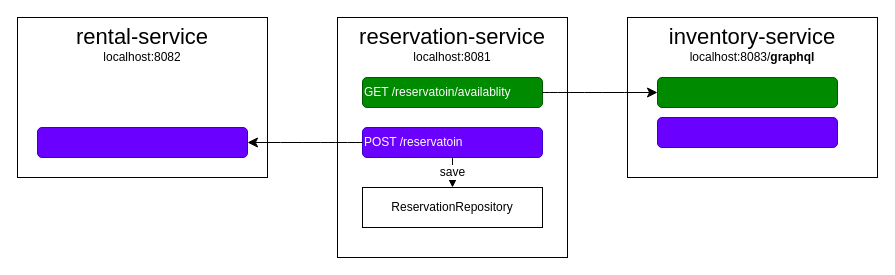
The diagram is 895 pixels wide and 275 high, and some of its shapes have lost their labels. Each missing label, with the box of its shape:
mutation { register (car...: (656, 116, 838, 148)
POST /start/{userId}/{reservationId}: (36, 126, 248, 158)
query { cars..: (656, 76, 838, 108)
